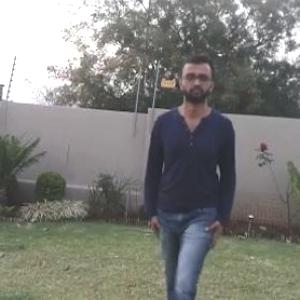follow: (142, 63, 232, 299)
